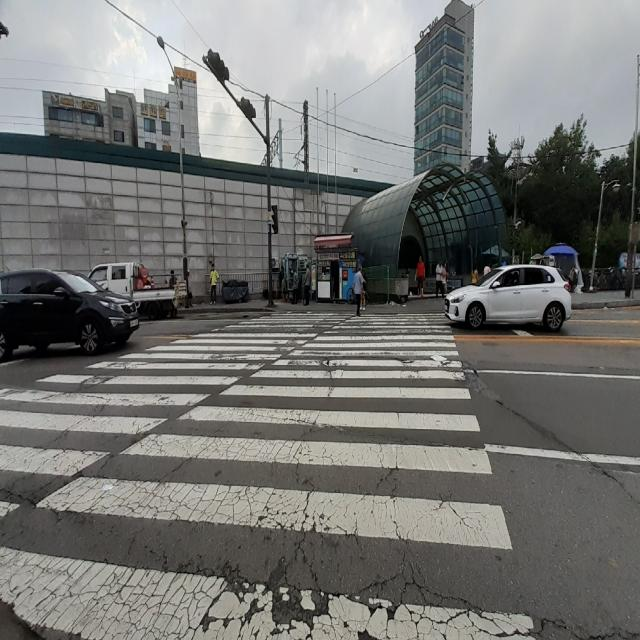횡단보도: (0, 309, 539, 640)
